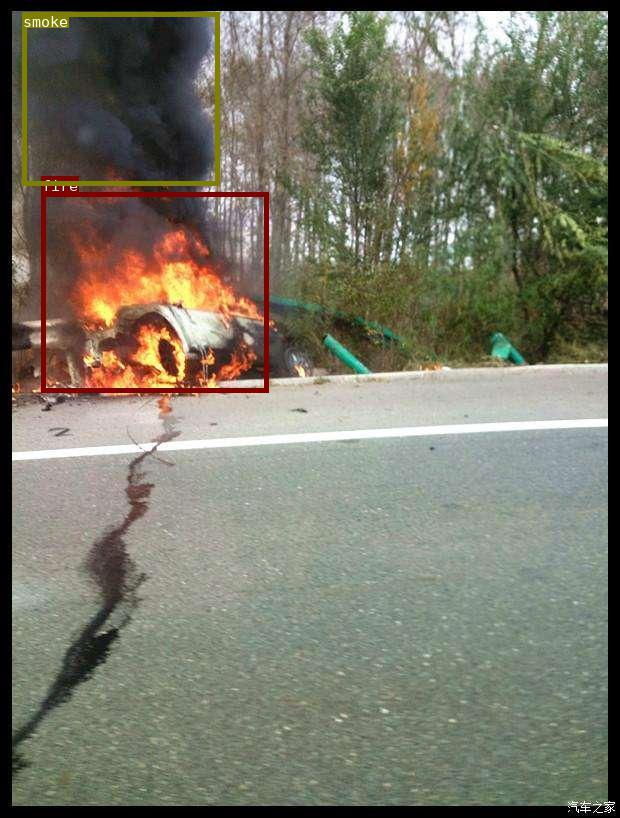fire: (40, 191, 268, 392)
smoke: (22, 11, 218, 185)
